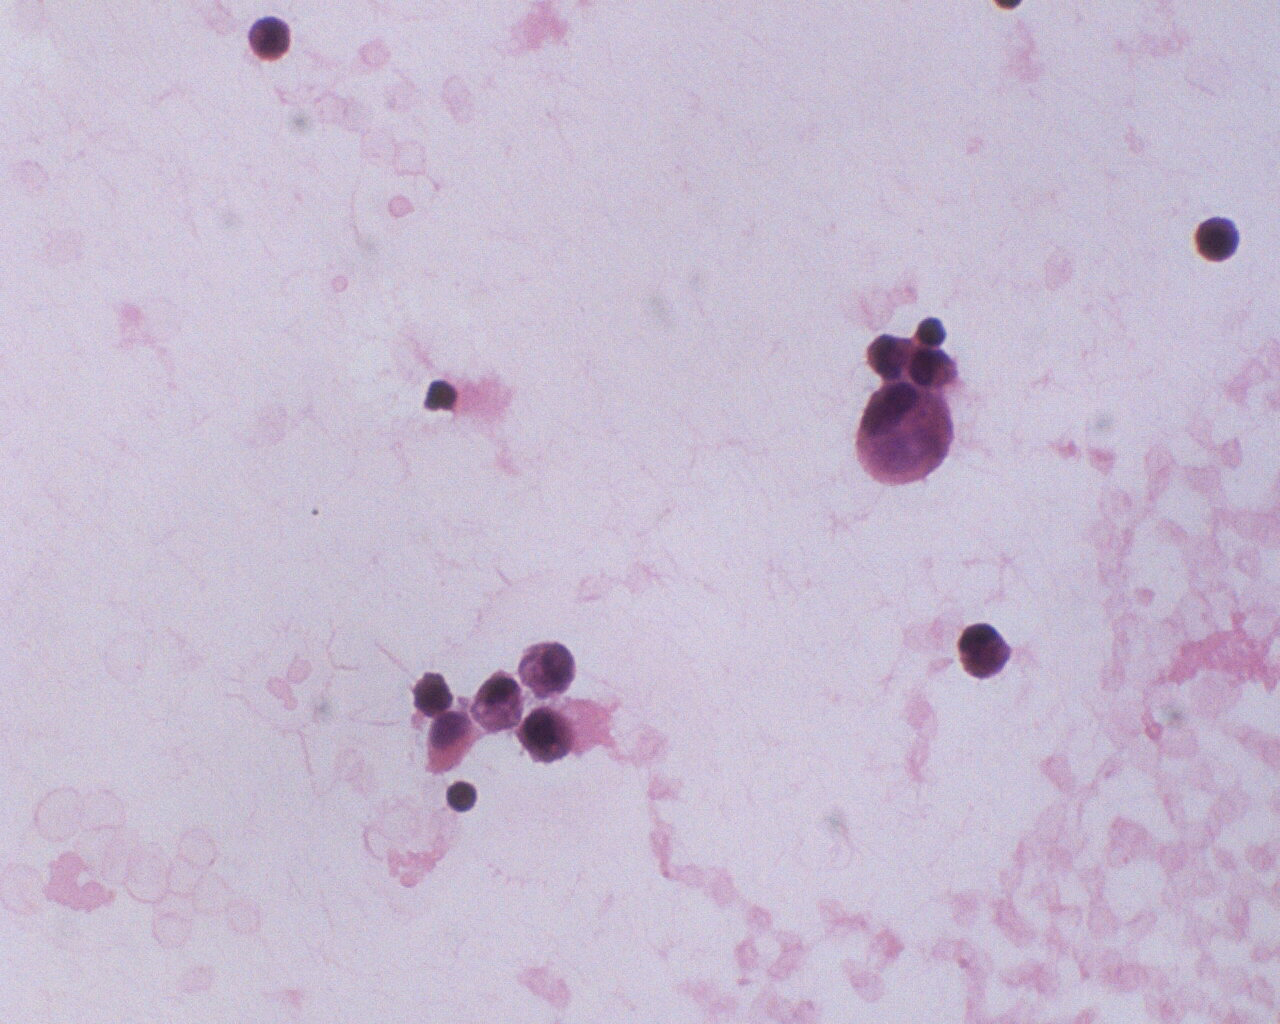histo: (851, 382, 962, 489)
lymph: (442, 775, 482, 817)
meso: (514, 635, 583, 701), (515, 703, 577, 770)
